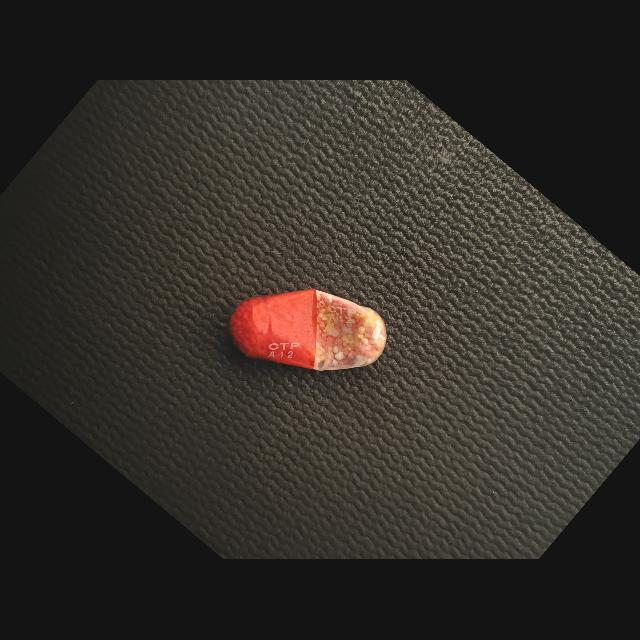Defective Capsule: (229, 289, 387, 372)
